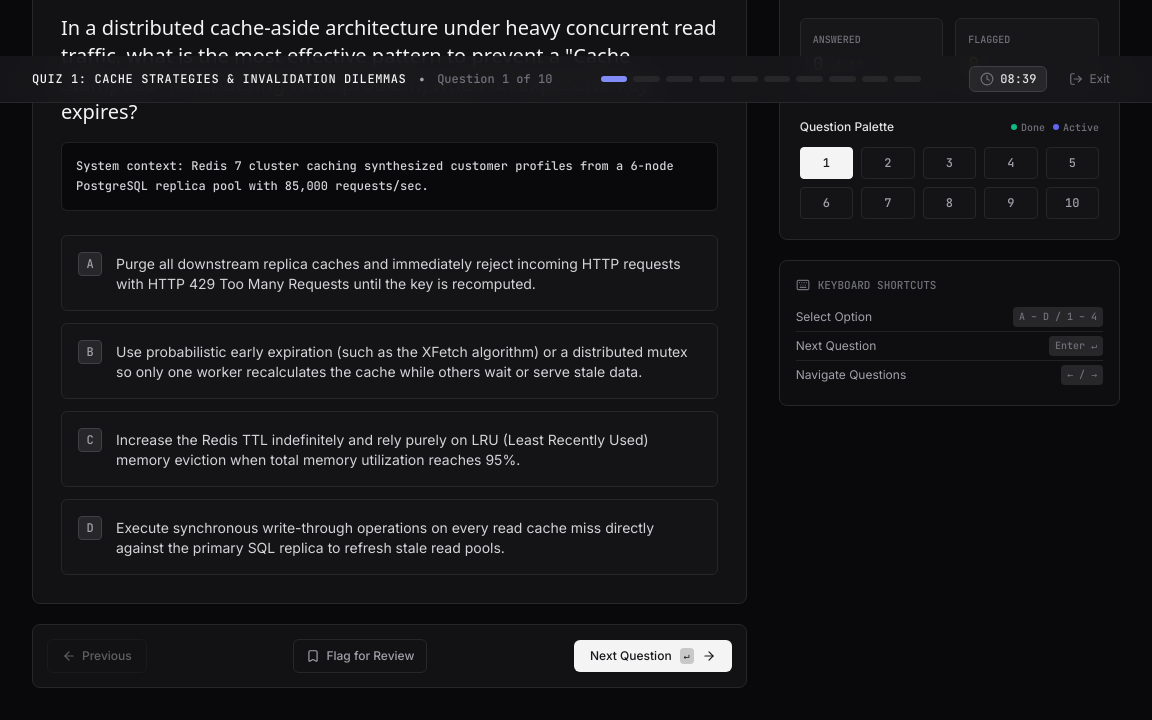
Test: QuizRunner Integration & Keyboard Navigation › toggles question flag for review and reflects in question palette
(page scrolled)
Click the button "Flag for Review" at (360, 656), box [293,639,427,673]
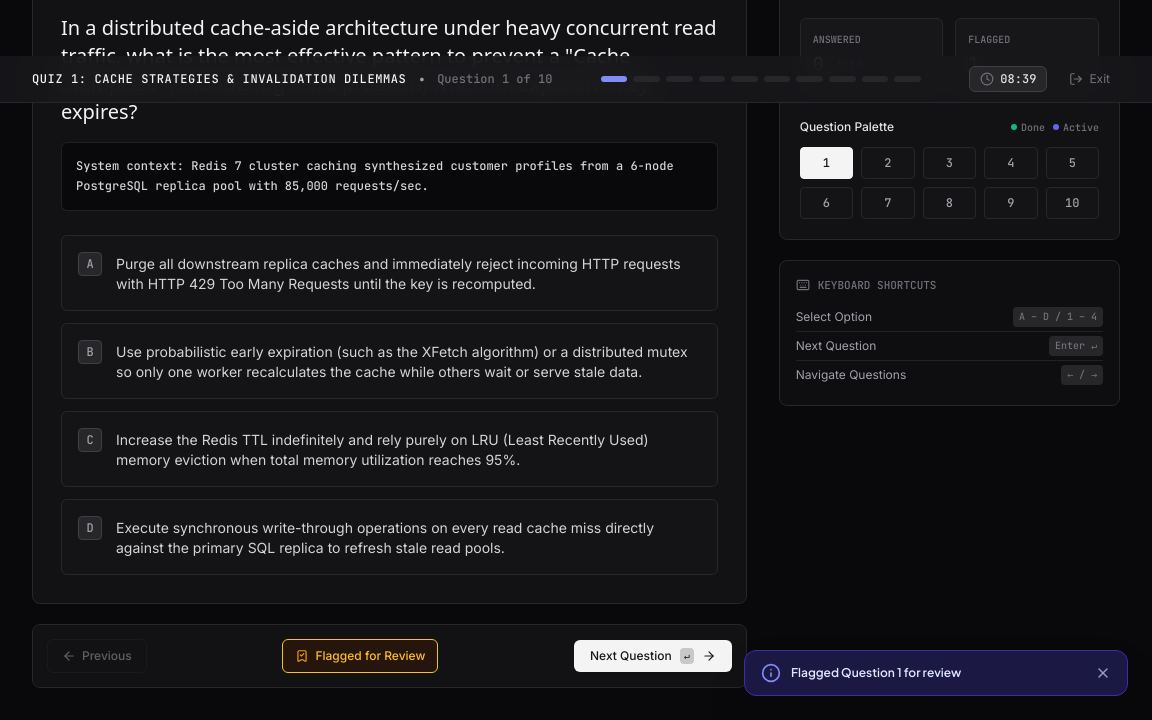
expect the text "Flagged for Review" is shown: met, box [316,648,425,664]
# Click again to unflag
Click the button named "flag for review" at (360, 656), box [282,639,438,673]
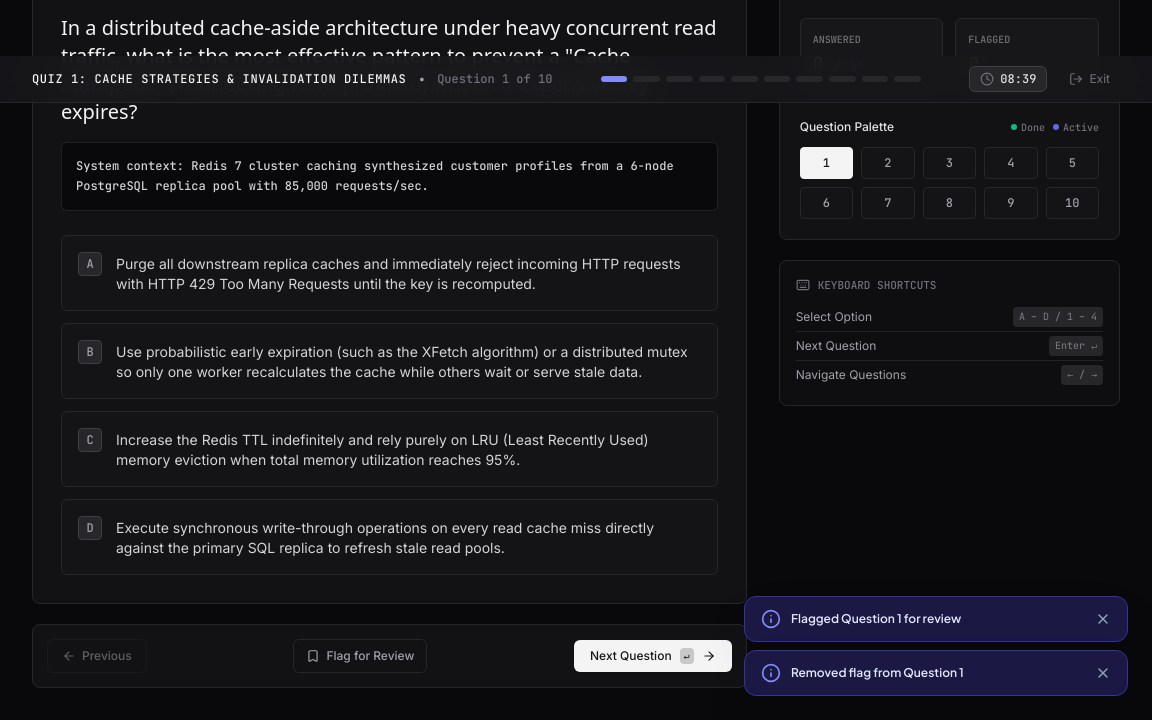
expect the button "Flagged for Review" is gone: met
